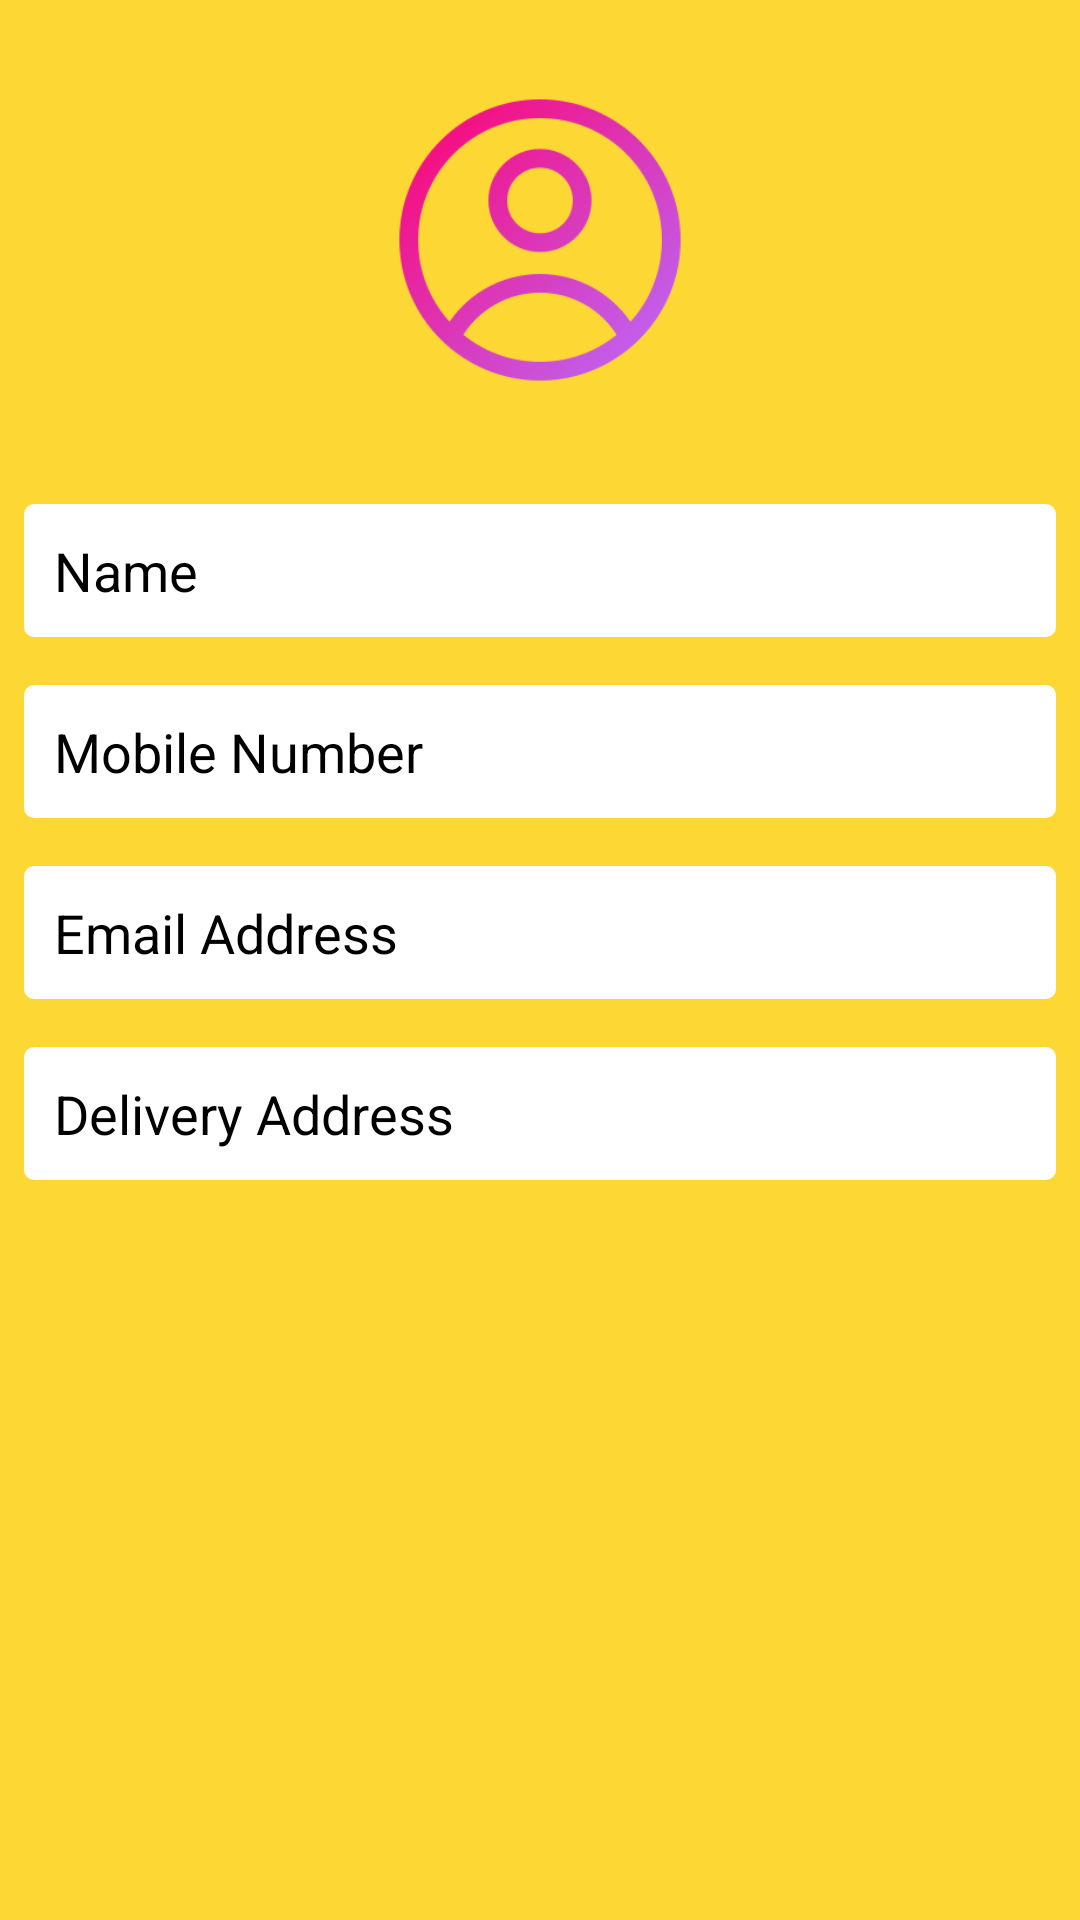

Locate icon controls on the screen. Image size 1080px x 1920px, boxes as bbox(x1, y1, x2, y2).
user: bbox(399, 99, 681, 381)
